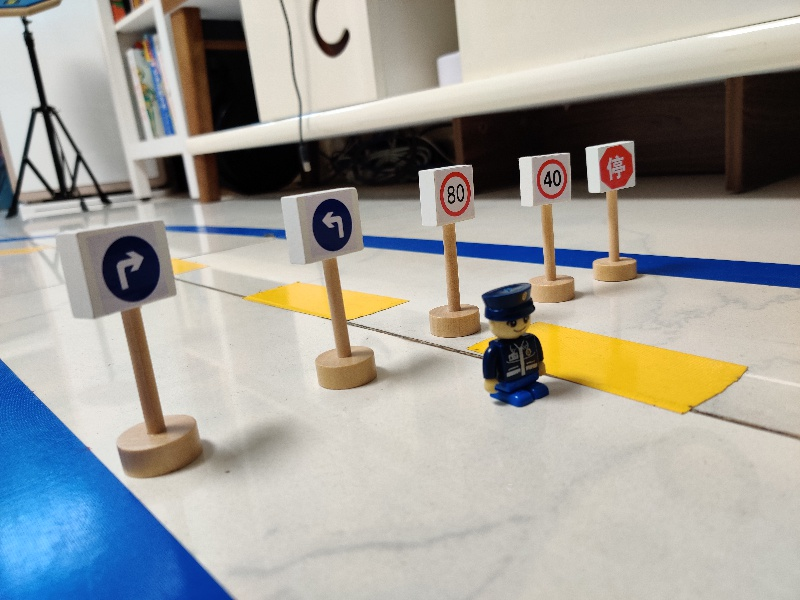limit_40: (516, 153, 574, 208)
limit_80: (416, 165, 477, 227)
person: (476, 282, 553, 409)
stop: (587, 140, 637, 196)
turn_left: (280, 190, 366, 265)
turn_right: (58, 215, 177, 320)
